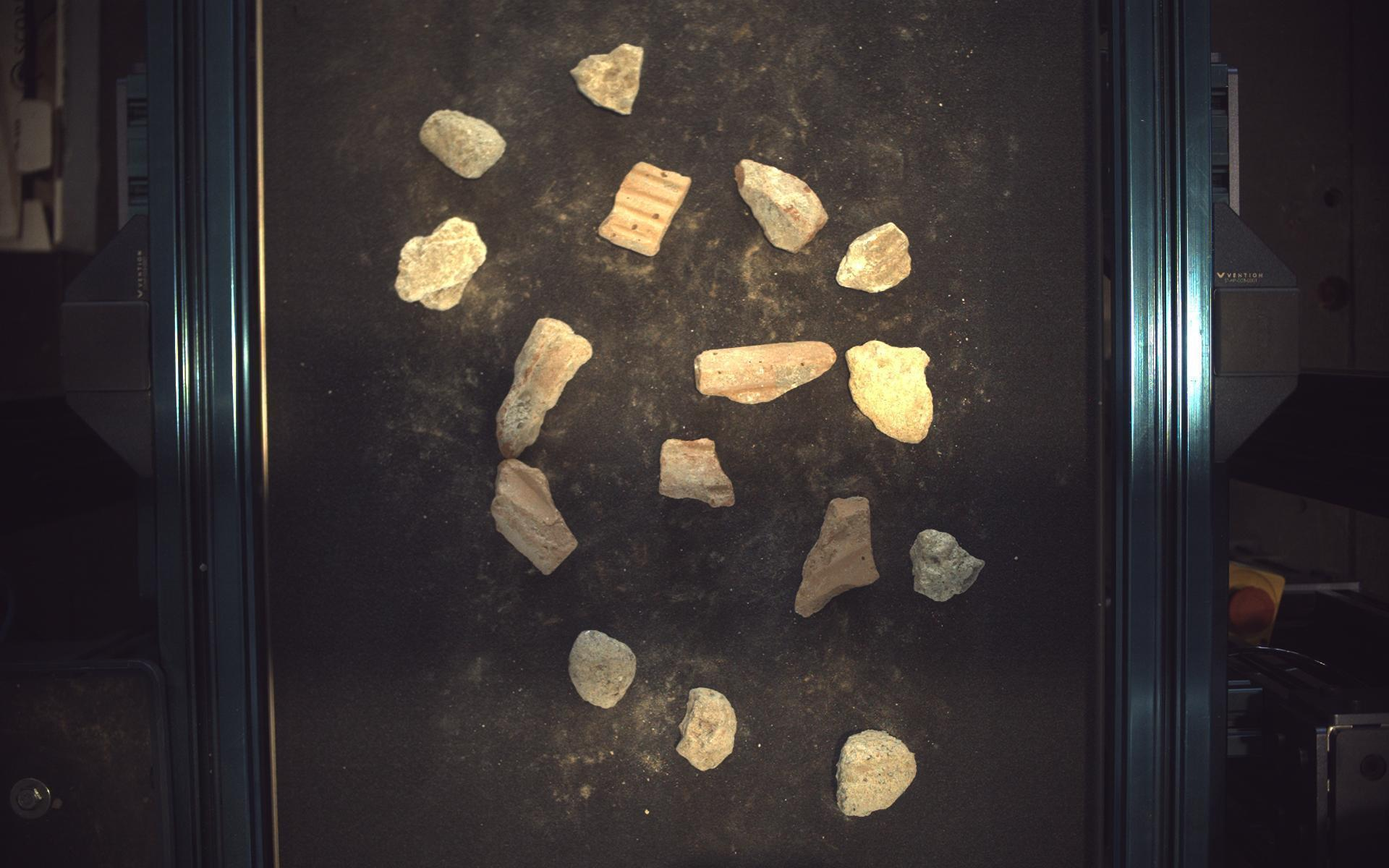brick: (491, 459, 577, 575), (797, 498, 880, 618), (598, 161, 692, 255), (697, 341, 837, 404), (660, 438, 736, 508), (838, 222, 913, 292)
concrete: (848, 340, 935, 443), (735, 158, 829, 252), (395, 216, 487, 310), (838, 731, 918, 818), (420, 109, 506, 177), (912, 529, 987, 603), (570, 632, 637, 710), (572, 43, 645, 114), (678, 689, 738, 773)
tile: (496, 318, 592, 459)
